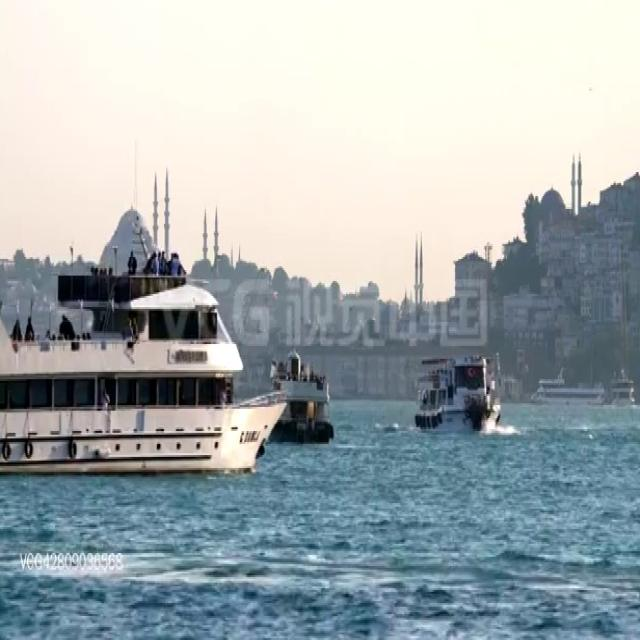houseboat: (270, 350, 334, 450)
passenger ship: (0, 231, 279, 480), (417, 355, 498, 447)
